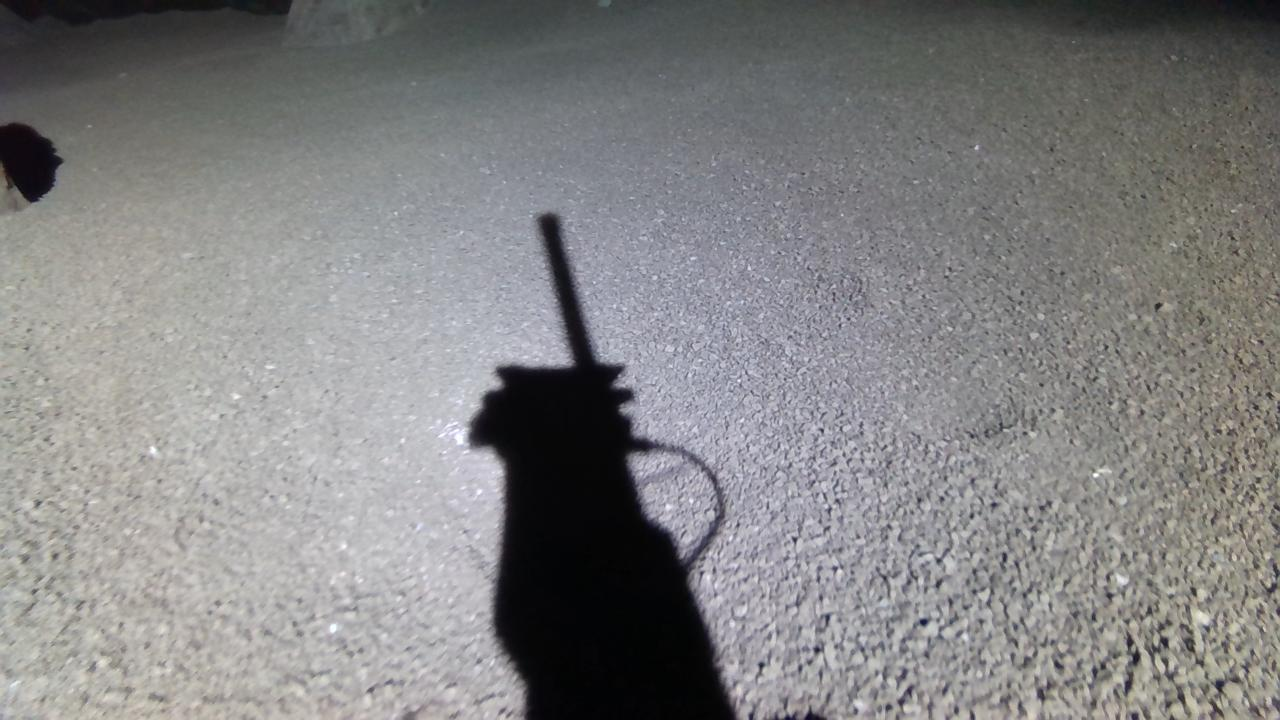rock: (281, 0, 432, 44)
